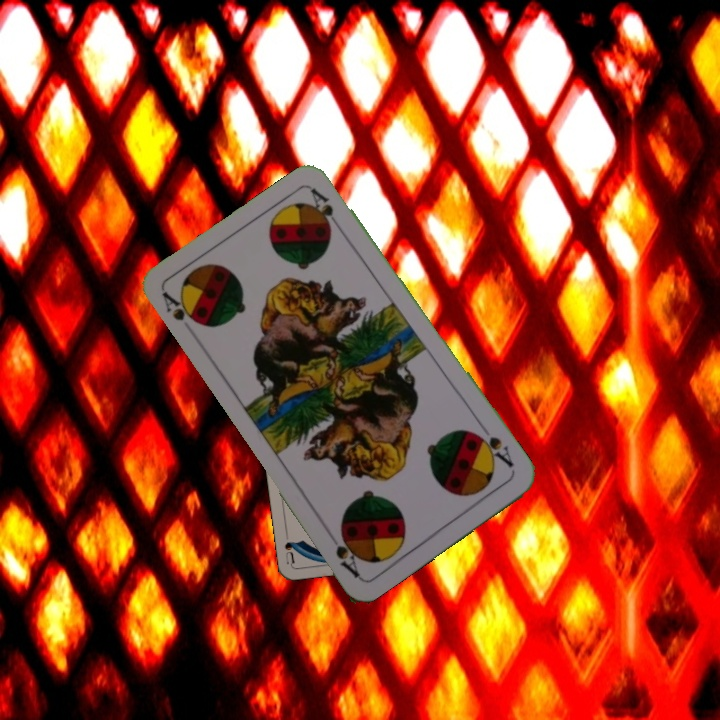SA: (470, 428, 516, 470), (158, 288, 203, 329)
